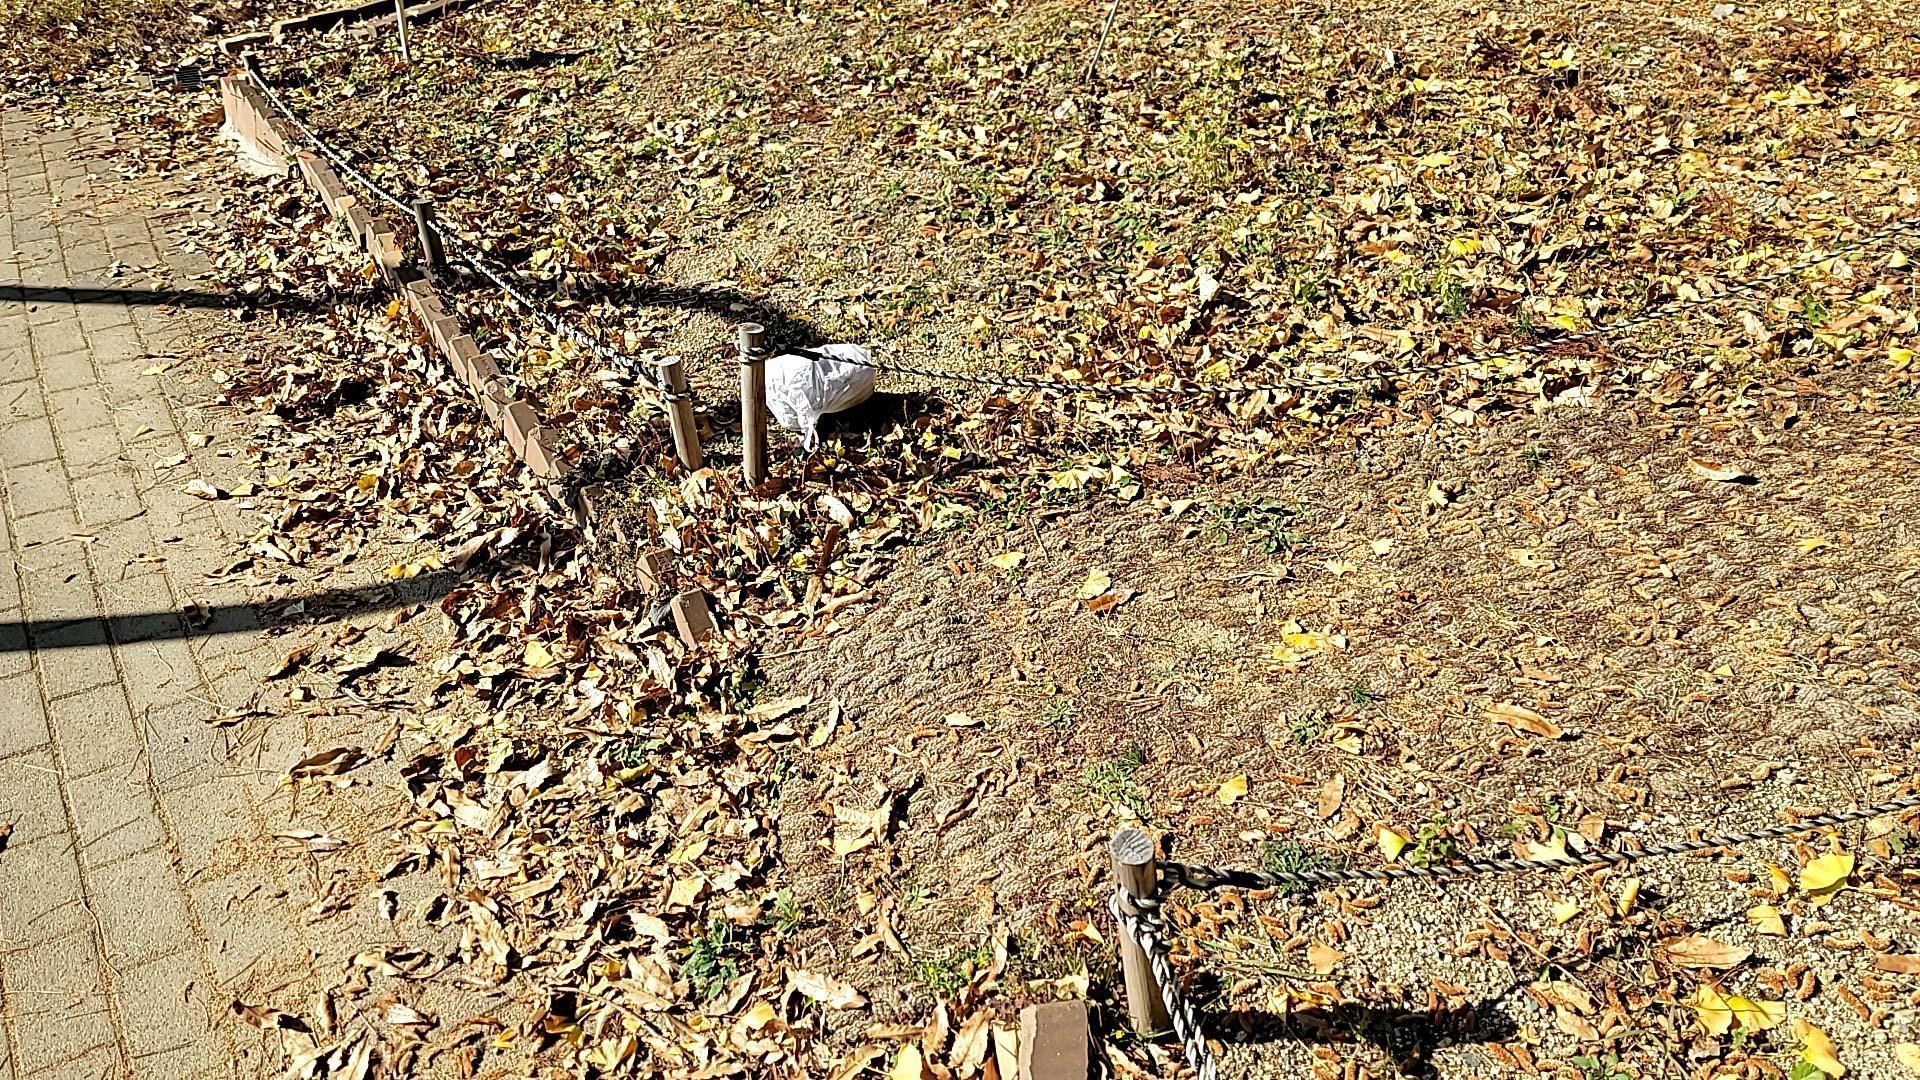white_bag: (752, 335, 887, 456)
